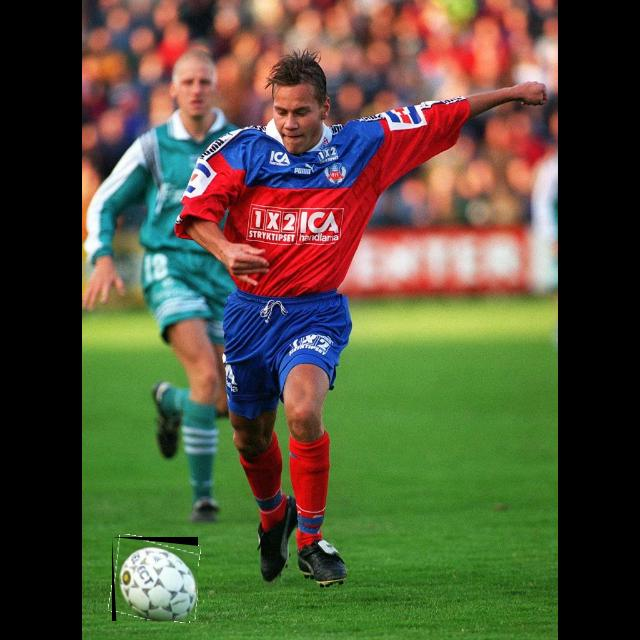Football: (112, 537, 198, 621)
